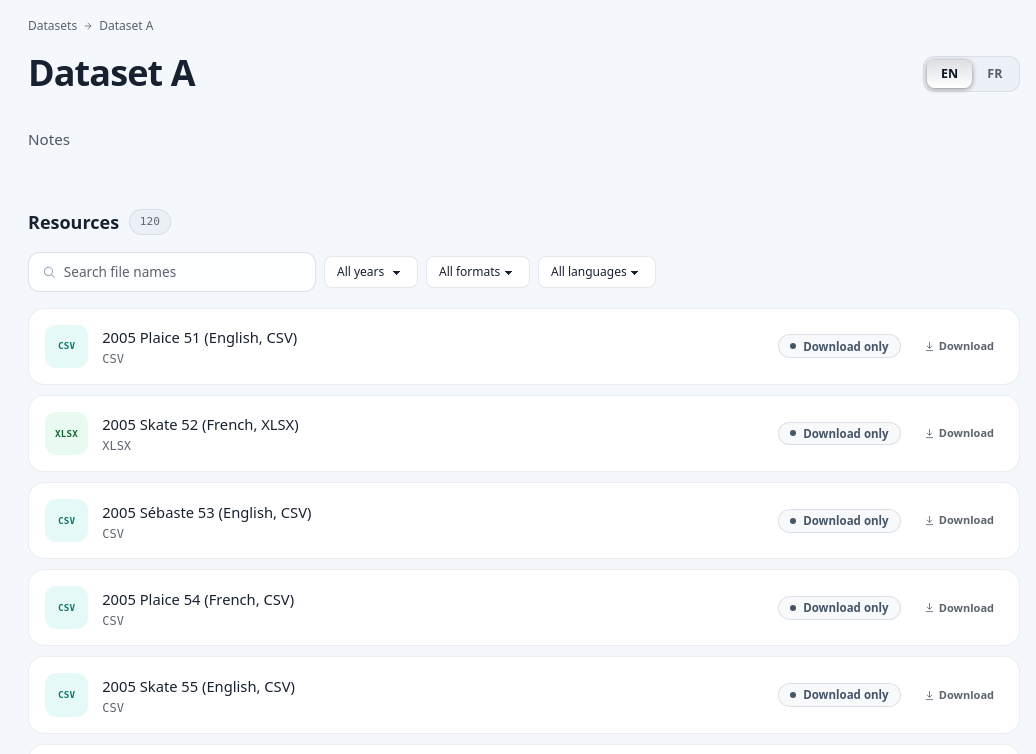
Scenario: DatasetPage file filter › pages a long filtered list with buttons and leaves ?page alone, then clears back to links
Select "English (60)" in the dropdown named "Language". click: point(597, 272)
box: x1=538 y1=256 x2=656 y2=288
(page scrolled)
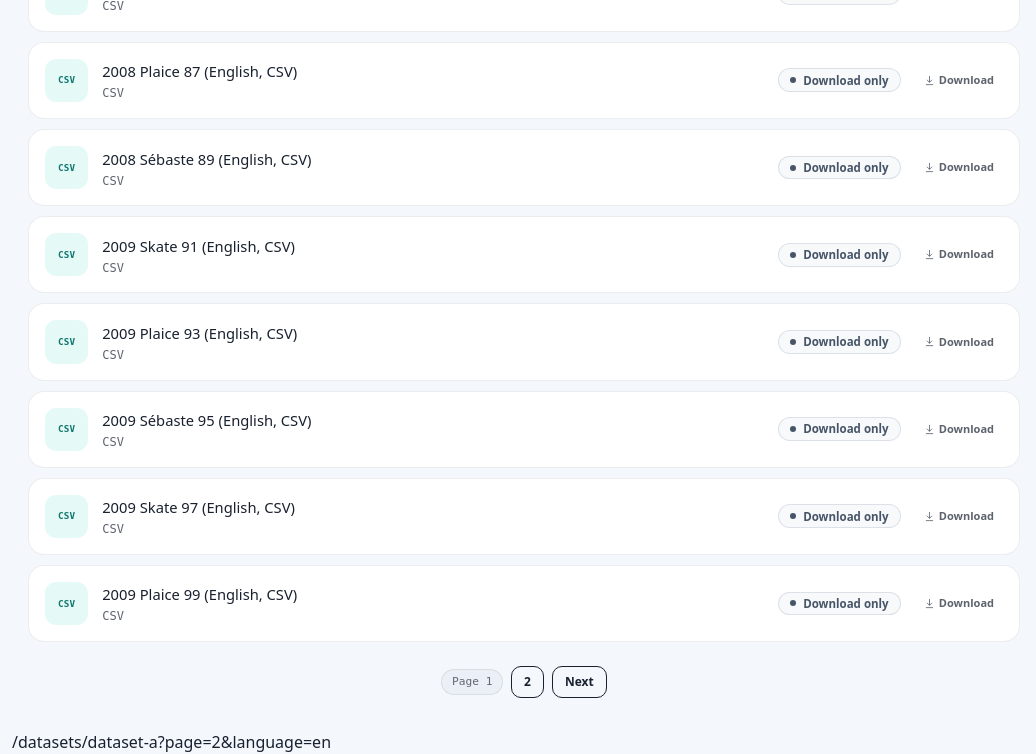
Click the button "Next". click: point(579, 682)
box: x1=552 y1=666 x2=607 y2=698
(page scrolled)
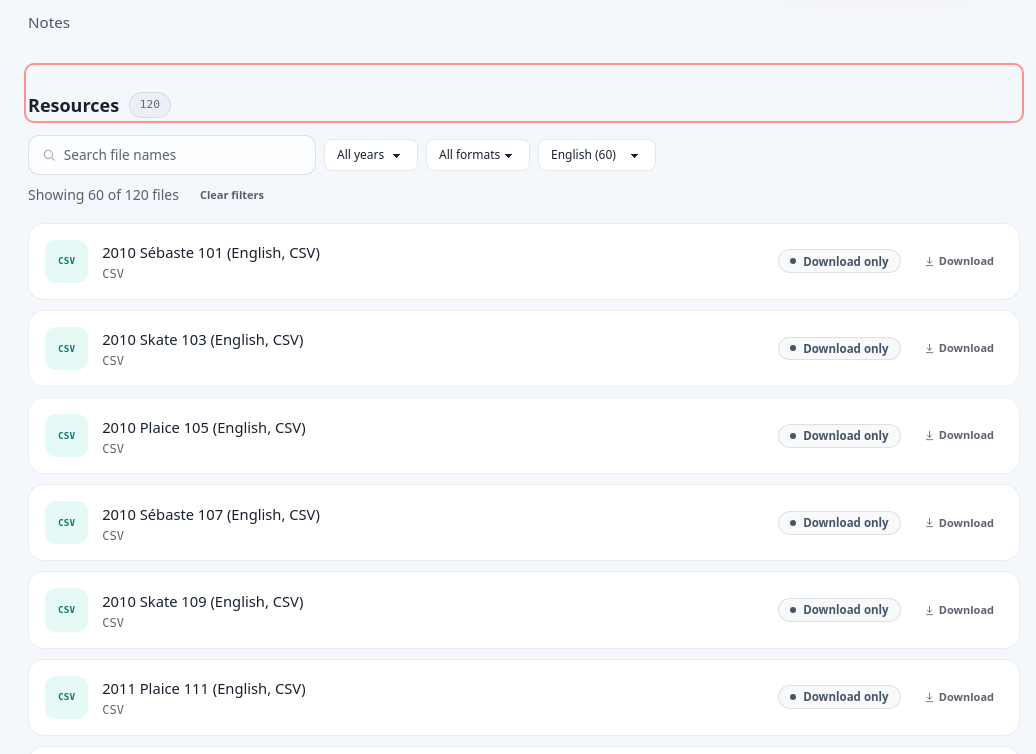
Expected: the text "Resources" is shown, x1=28 y1=93 x2=119 y2=117
Click the button "Clear filters". click: point(232, 195)
box: x1=191 y1=183 x2=273 y2=207
(page scrolled)
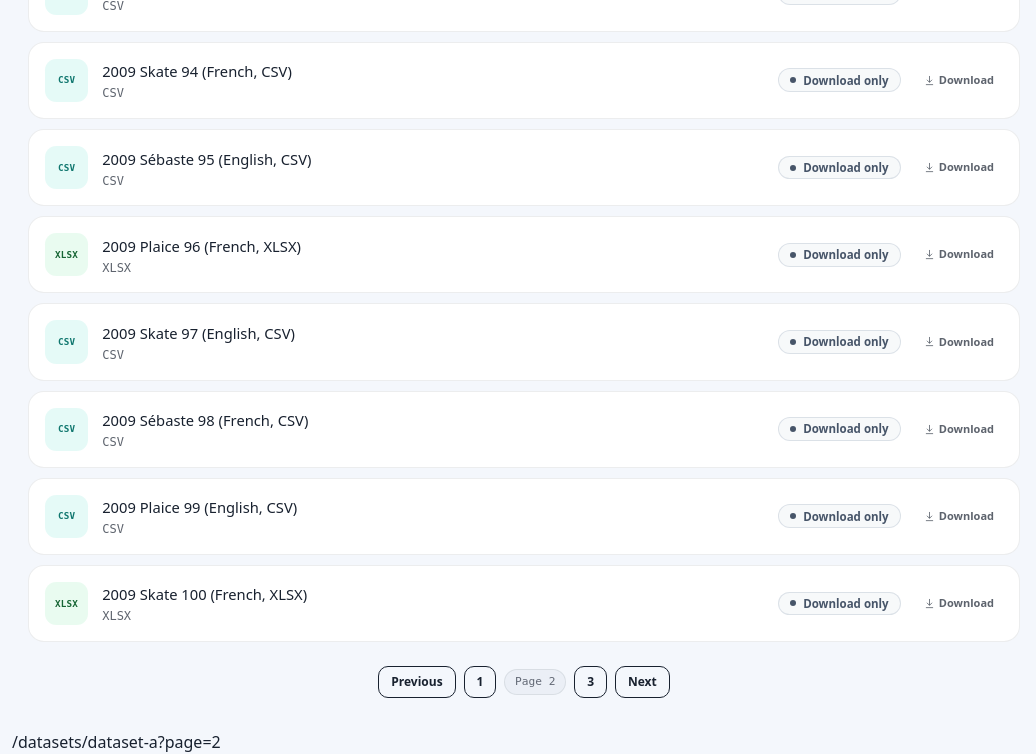
Expected: the text "Showing" is gone
Expected: the text with test id "location" reads "/datasets/dataset-a?page=2", x1=12 y1=731 x2=221 y2=753
